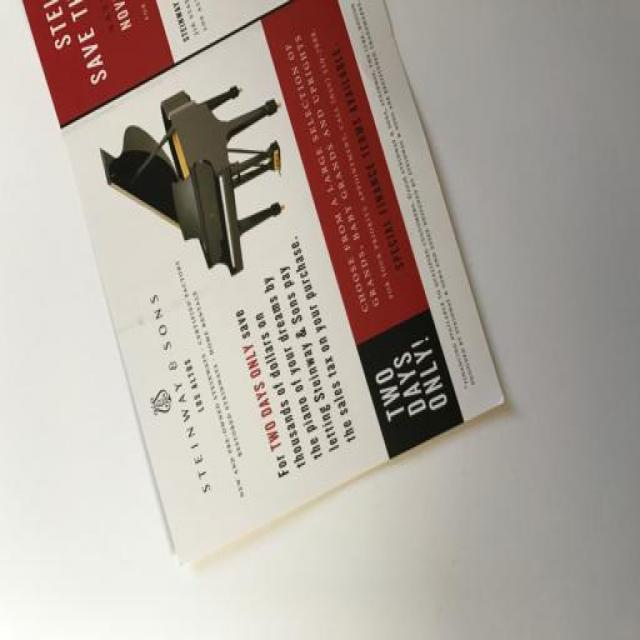paper: (1, 1, 553, 619)
